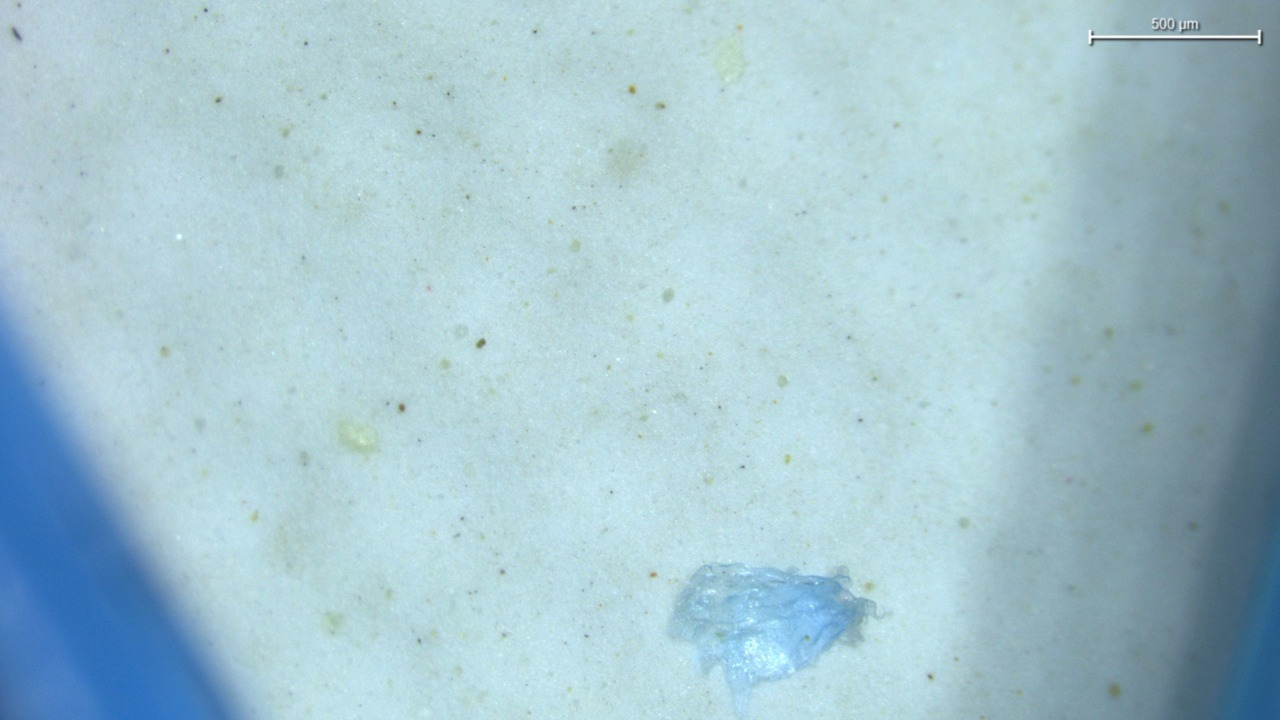microplastic_fragment: (670, 564, 875, 717)
